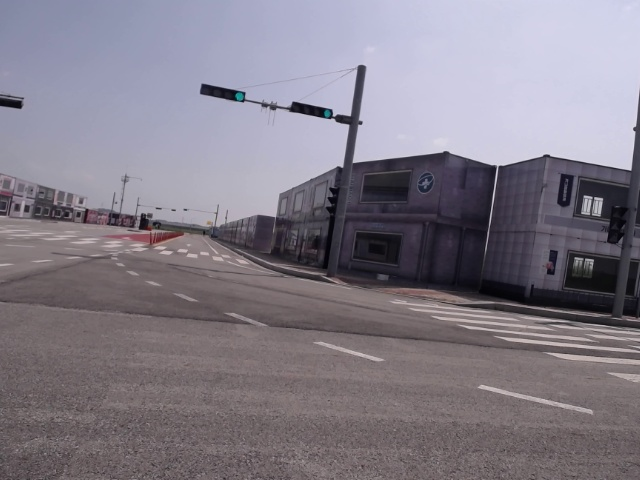straight_green_4: (291, 100, 333, 121), (201, 83, 247, 101)
